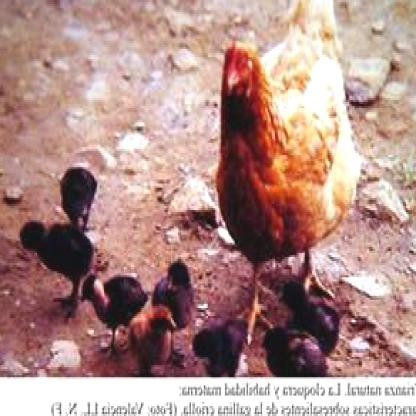chicken: (215, 39, 356, 332), (14, 220, 97, 316), (80, 265, 148, 347), (189, 320, 248, 379), (128, 308, 177, 377), (151, 259, 195, 326)
